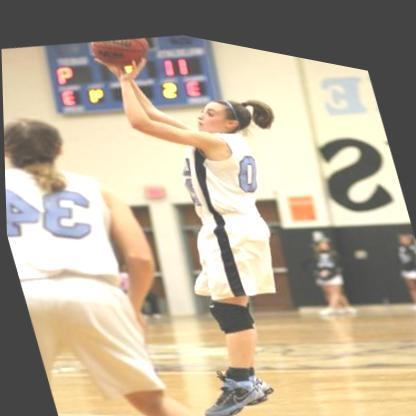basketball: (91, 23, 153, 71)
